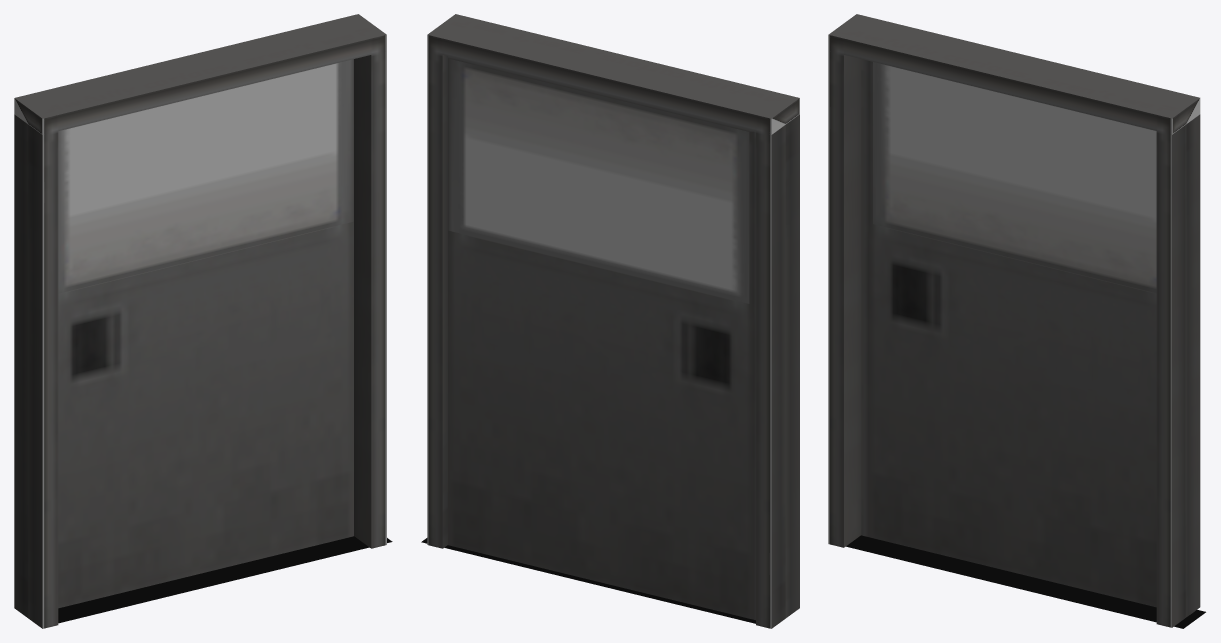
File: doors_single.fbx
3 renders of one model, left to right at view 1: azimuth 30°, elevation 25°; view 2: azimuth 150°, elevation 25°; view 3: azimuth 330°, elevation 25°, orthographic.
Parts seen in each view (by area): view 1: door_stationary.002, door_single, room_floorpanel.002; view 2: door_stationary.002, door_single, room_floorpanel.002; view 3: door_stationary.002, door_single, room_floorpanel.002.
Part boxes in pixels (bbox=[...]): door_stationary.002: bbox=[58, 59, 353, 608]; door_single: bbox=[14, 14, 386, 628]; room_floorpanel.002: bbox=[58, 536, 392, 623]; door_stationary.002: bbox=[448, 56, 755, 620]; door_single: bbox=[427, 14, 799, 628]; room_floorpanel.002: bbox=[421, 538, 755, 623]; door_stationary.002: bbox=[861, 59, 1190, 614]; door_single: bbox=[828, 14, 1200, 627]; room_floorpanel.002: bbox=[846, 535, 1205, 628].
Bounding box in the file's own units: 192 × 266 × 26.76.
Materials: 2 (1 with a texture image).
